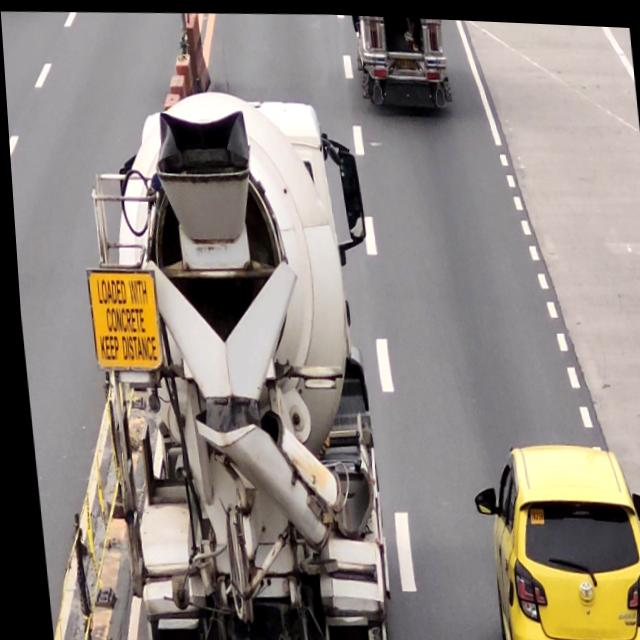Car: (463, 434, 640, 640)
Jeep: (350, 12, 448, 111)
Truck: (64, 78, 401, 640)
